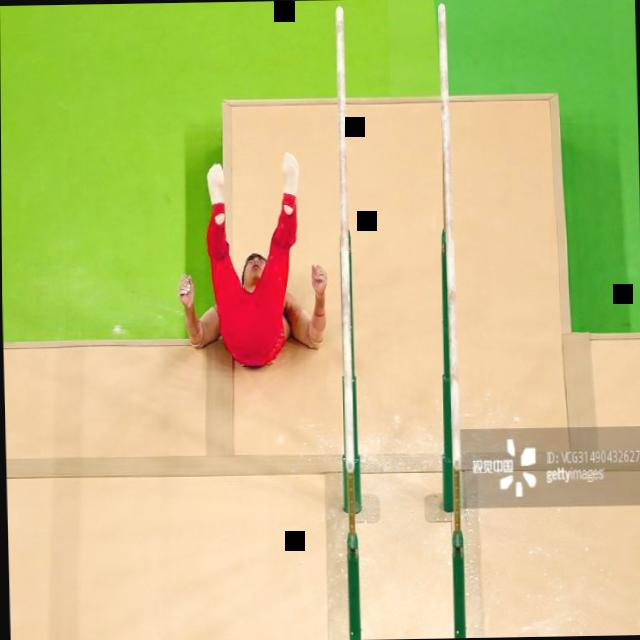Fall-Detected: (171, 136, 333, 380)
